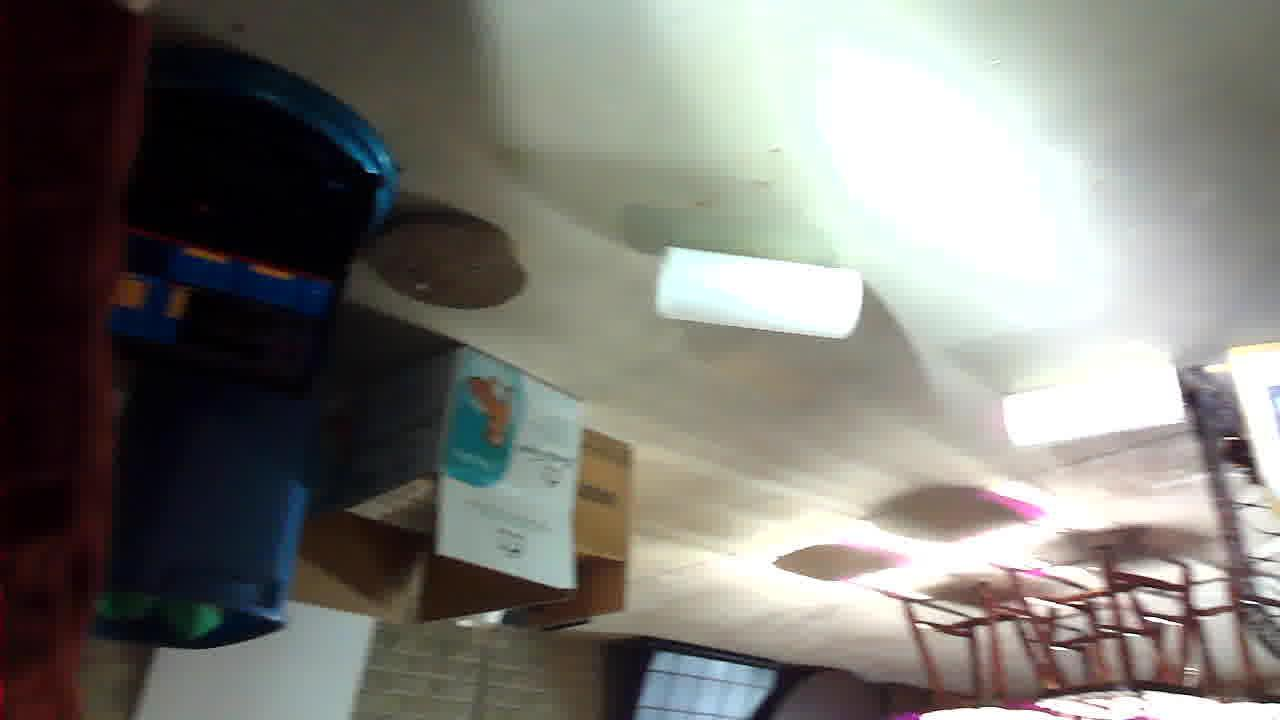coral: (419, 381, 622, 475), (101, 274, 272, 352)
